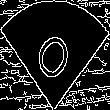O_SW: (31, 22, 79, 88)
